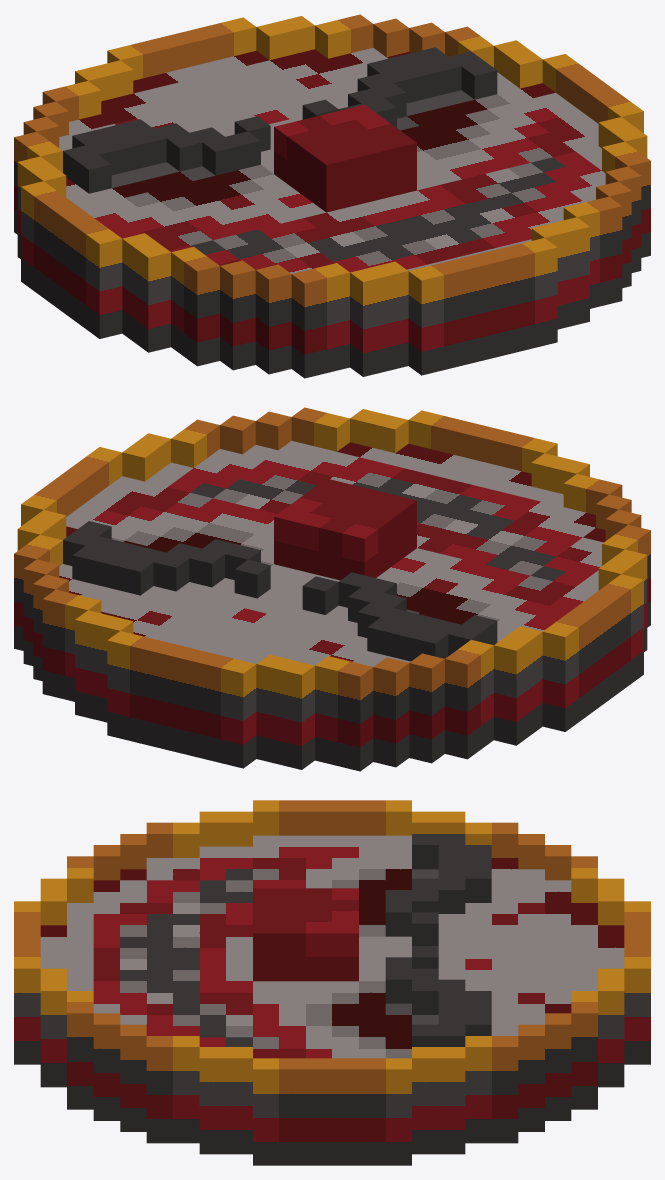
The model's file is 0f5e9f99-c05f-4fc8-85ec-8af6a8cda385.gltf.
3 views of the same model, one above another, from view 1: azimuth 30°, elevation 25°; view 2: azimuth 150°, elevation 25°; view 3: azimuth 270°, elevation 25° (orthographic).
Visible parts, largest first — view 1: Equip_Left_Hand-Local; view 2: Equip_Left_Hand-Local; view 3: Equip_Left_Hand-Local.
Part boxes in pixels (left/top/right/bottom): Equip_Left_Hand-Local: left=14, top=14, right=650, bottom=378; Equip_Left_Hand-Local: left=14, top=407, right=650, bottom=771; Equip_Left_Hand-Local: left=14, top=800, right=650, bottom=1165.
Size of the model in its own units: 24 by 7 by 24.
Materials: 1 (1 with a texture image).
